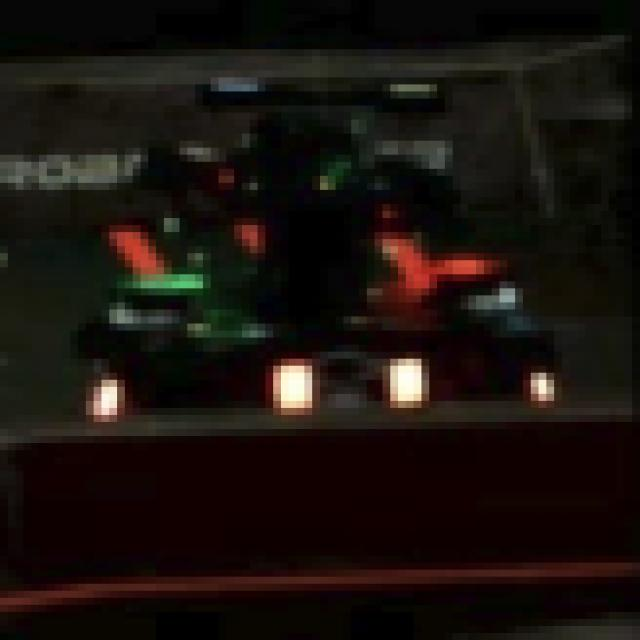Rs: (273, 324, 429, 429)
